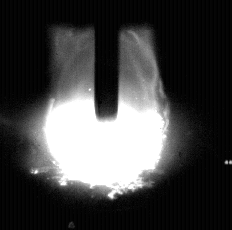arame: (96, 0, 119, 121)
poca: (45, 0, 164, 230)
